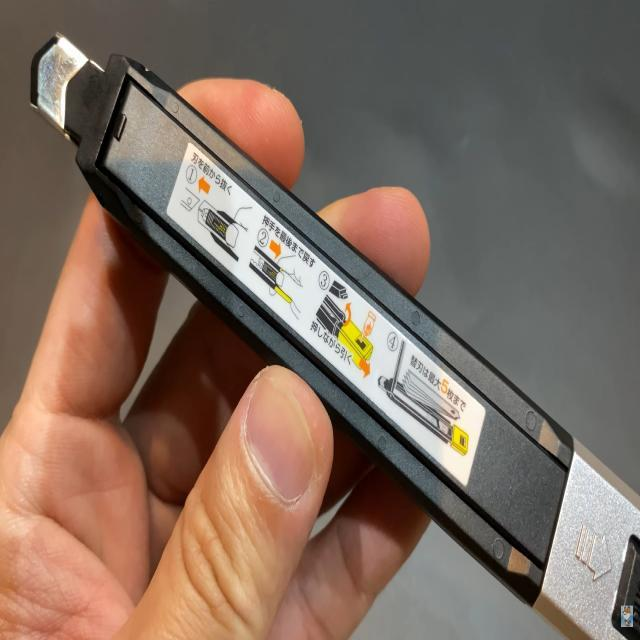cutter: (8, 4, 640, 640)
